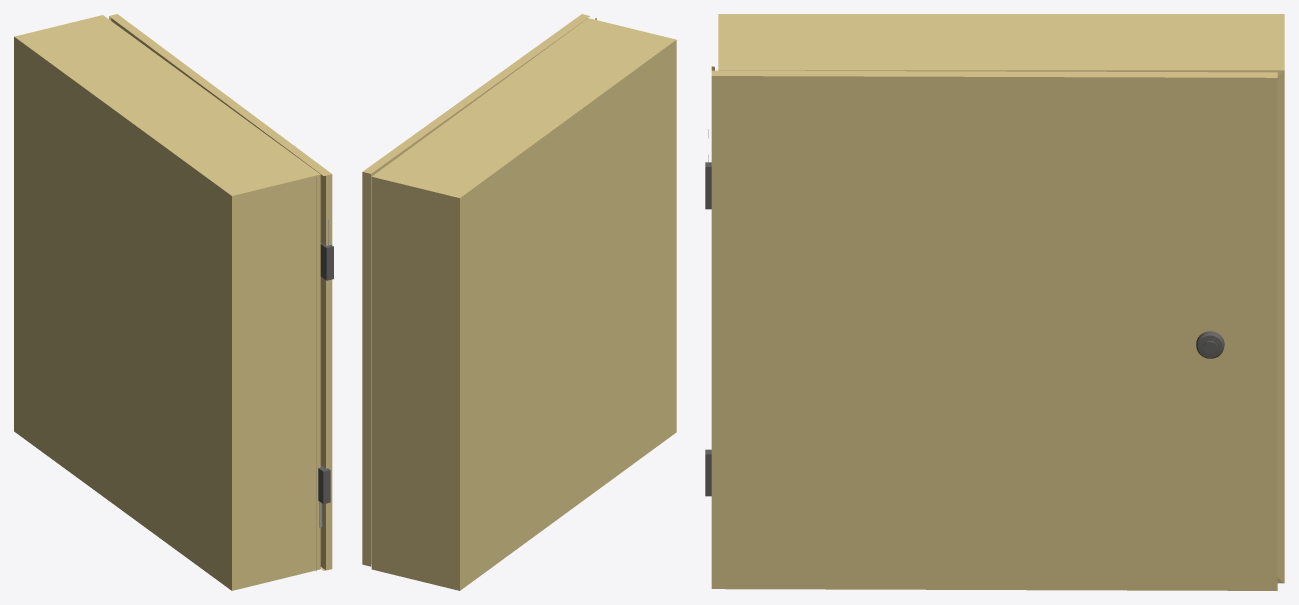
Rendered from CajaElectrica_EmiliaG_46941748.fbx.
3 renders of one model, left to right at view 1: azimuth 30°, elevation 25°; view 2: azimuth 150°, elevation 25°; view 3: azimuth 270°, elevation 25°, orthographic. The views are drawn at different scales.
Visible parts, largest first — view 1: Cylinder.052, Cylinder.001; view 2: Cylinder.052, Cylinder.001; view 3: Cylinder.001, Cylinder.052.
Part boxes in pixels (x1,y1,x2,y2): Cylinder.052: (14,15,333,590); Cylinder.001: (109,14,332,570); Cylinder.052: (371,18,676,590); Cylinder.001: (362,14,589,566); Cylinder.001: (711,70,1277,590); Cylinder.052: (705,14,1284,583).
Bounding box in the file's own units: 11.98 × 42.5 × 43.47.
Materials: 1 (1 with a texture image).
